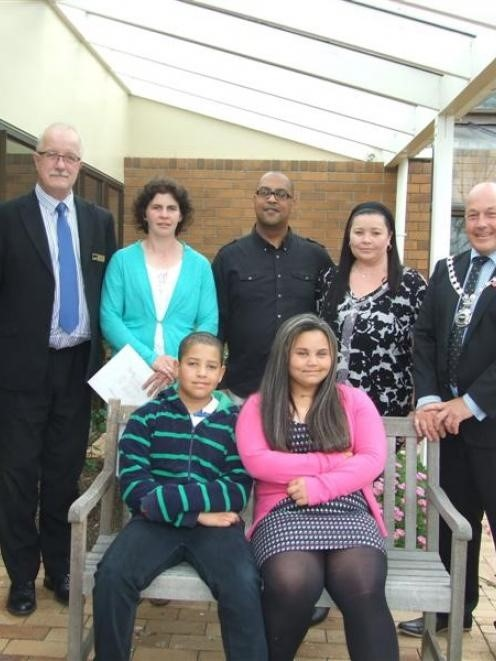face_no_mask: (274, 314, 340, 386), (134, 174, 191, 237), (34, 121, 81, 193), (180, 330, 226, 397), (345, 203, 394, 260), (252, 172, 293, 231), (464, 180, 495, 252)
